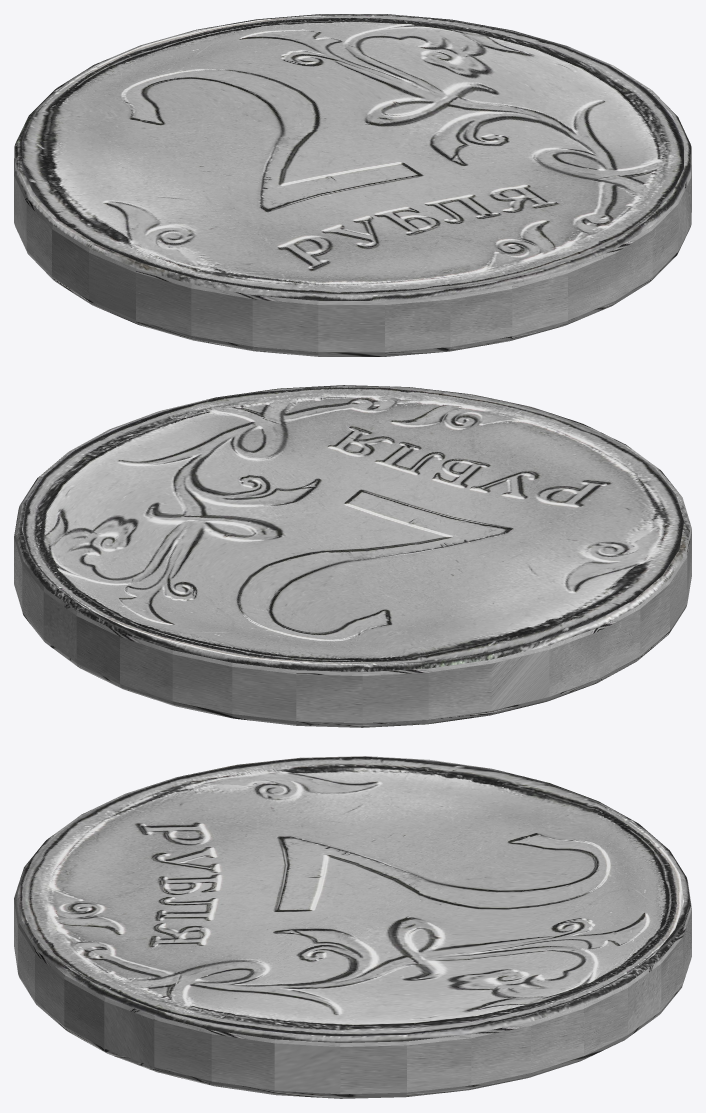
Rendered from 2mrub.fbx.
3 views of the same model, one above another, from view 1: azimuth 30°, elevation 25°; view 2: azimuth 150°, elevation 25°; view 3: azimuth 270°, elevation 25° (orthographic).
Parts seen in each view (by area): view 1: 2mrub; view 2: 2mrub; view 3: 2mrub.
Part boxes in pixels (x1=…): 2mrub: x1=14, y1=14, x2=691, y2=356; 2mrub: x1=14, y1=385, x2=691, y2=727; 2mrub: x1=14, y1=756, x2=691, y2=1098.
Size of the model in its own units: 5 by 0.5 by 5.
